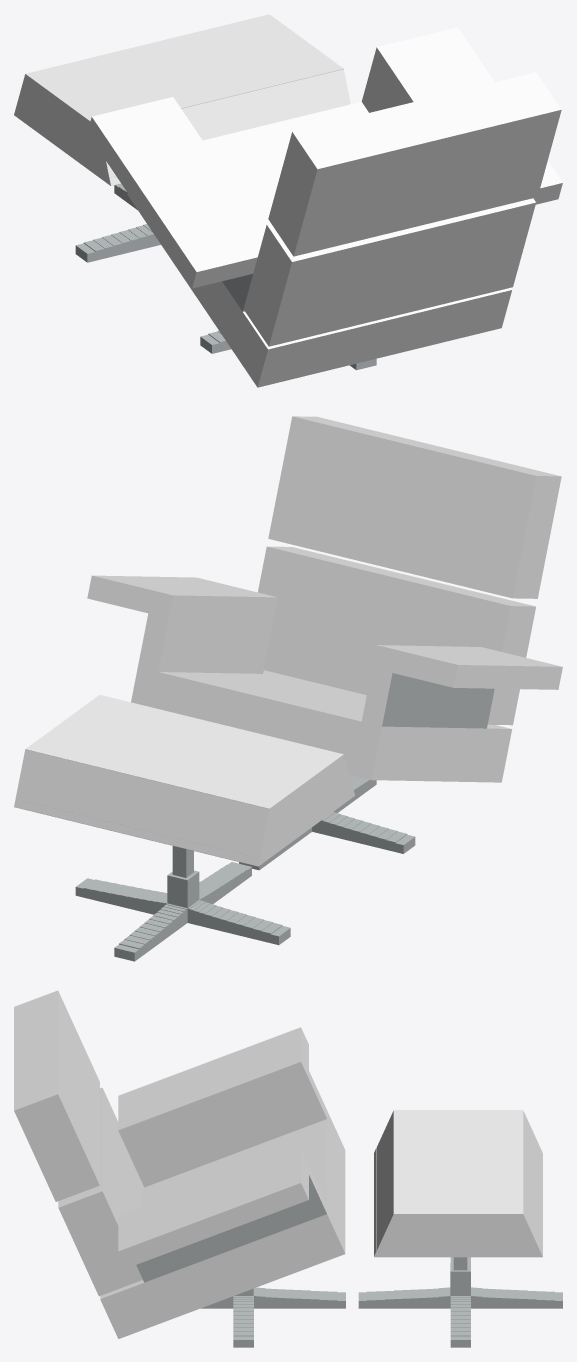
File: recliner_chair.obj
3 views of the same model, one above another, from view 1: azimuth 30°, elevation 25°; view 2: azimuth 150°, elevation 25°; view 3: azimuth 270°, elevation 25° (orthographic). The views are drawn at different scales.
Visible parts, largest first — view 1: cube.076, cube.077, cube.012, cube.069, cube.073, cube.074, cube.010, cube.075, cube.025, cube.072, cube; view 2: cube.076, cube.077, cube.012, cube.069, cube, cube.075, cube.073, cube.074, cube.072, cube.000, cube.025, cube.090 (+3 smaller); view 3: cube.012, cube.069, cube.076, cube.073, cube.074, cube.072, cube.077, cube.075, cube, cube.010, cube.051, cube.129 (+2 smaller).
Boxes of the visible parts, x1,y1,x2,y2 form: cube.076: (268,72,561,256); cube.077: (243,198,536,346); cube.012: (25,14,343,177); cube.069: (127,102,511,387); cube.073: (87,97,264,288); cube.074: (372,27,562,204); cube.010: (92,69,350,177); cube.075: (361,64,399,112); cube.025: (75,237,160,262); cube.072: (222,274,252,311); cube: (15,74,34,122); cube.076: (268,416,561,598); cube.077: (258,546,535,725); cube.012: (25,695,343,857); cube.069: (131,667,512,782); cube: (15,749,276,858); cube.075: (138,613,273,673); cube.073: (372,645,562,689); cube.074: (87,575,277,620); cube.072: (361,668,494,728); cube.000: (14,799,260,865); cube.025: (187,914,290,945); cube.090: (312,824,415,853); cube.012: (393,1110,523,1257); cube.069: (100,1110,345,1338); cube.076: (14,990,99,1201); cube.073: (118,1027,308,1147); cube.074: (118,1148,308,1268); cube.072: (126,1071,326,1187); cube.077: (58,1087,142,1296); cube.075: (136,1166,326,1282); cube: (507,1111,539,1256); cube.010: (377,1111,410,1256); cube.051: (358,1292,450,1308); cube.129: (254,1292,345,1308).
Bounding box in the file's own units: 1.69 × 1.32 × 2.51.
